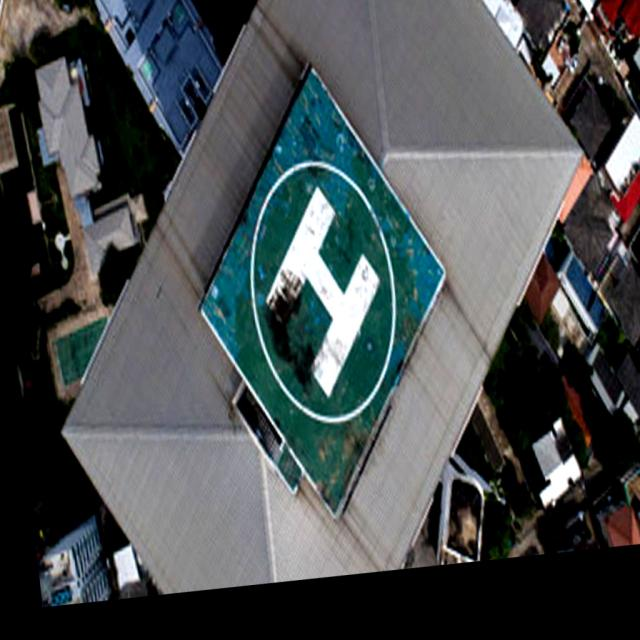helipad: (248, 156, 398, 426)
